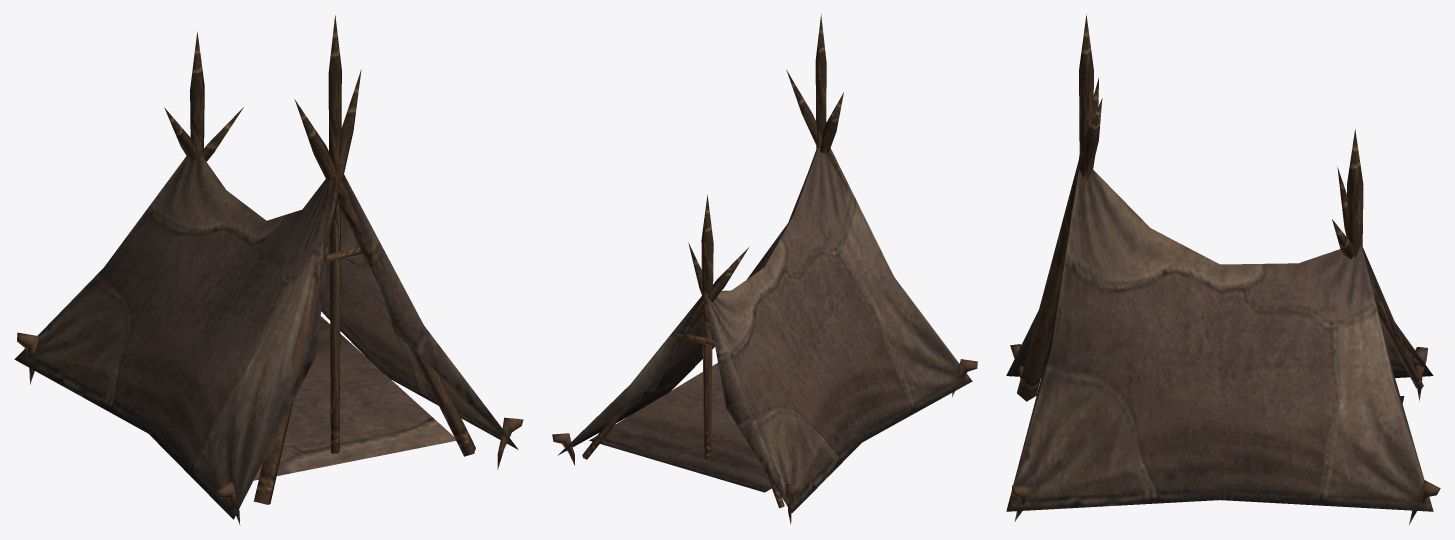
File: 10204_tent.FBX
The picture shows the model from 3 angles, left to right: view 1: azimuth 30°, elevation 25°; view 2: azimuth 150°, elevation 25°; view 3: azimuth 270°, elevation 25°; orthographic projection. The views are drawn at different scales.
Visible parts, largest first — view 1: 10204_tent; view 2: 10204_tent; view 3: 10204_tent.
Boxes of the visible parts, x1,y1,x2,y2 form: 10204_tent: [14, 15, 523, 525]; 10204_tent: [552, 14, 977, 524]; 10204_tent: [1006, 14, 1440, 524].
Bounding box in the file's own units: 292 × 420 × 366.
